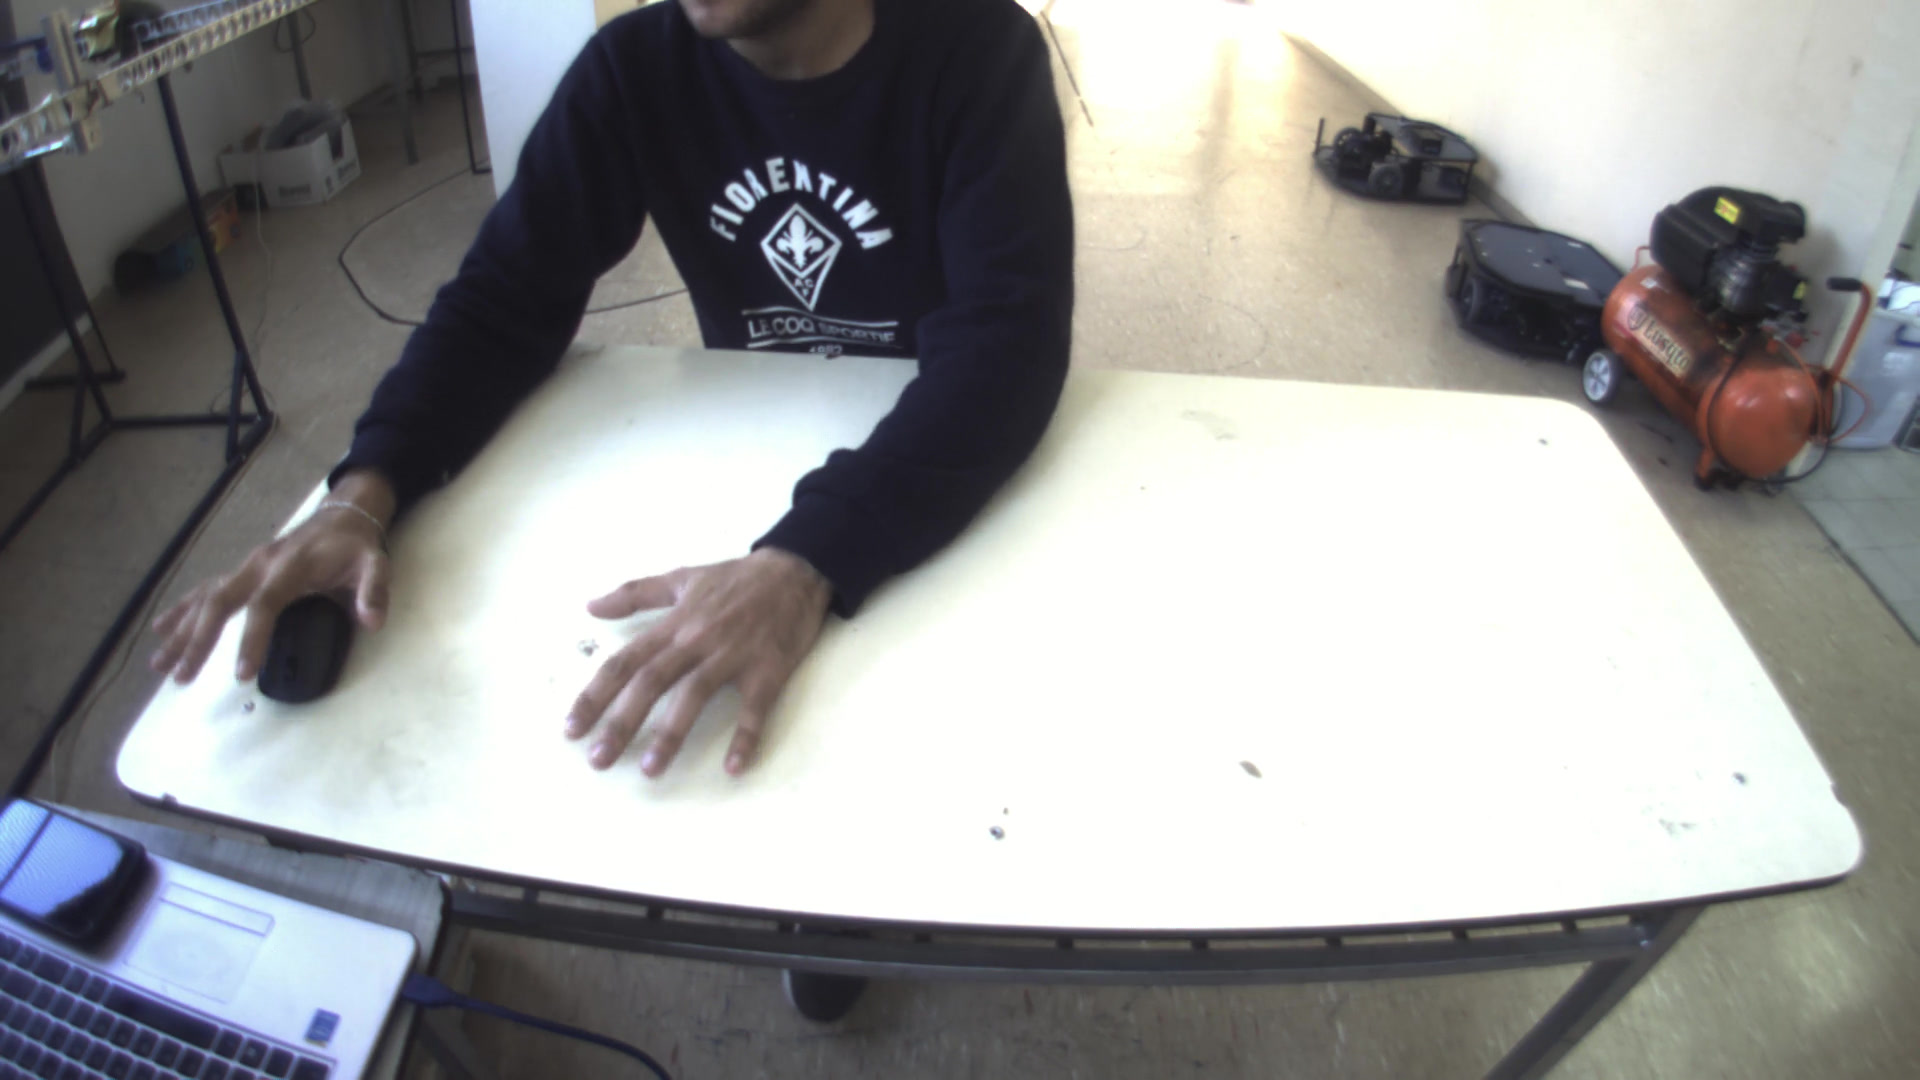hand: (549, 533, 837, 800), (131, 489, 402, 708)
